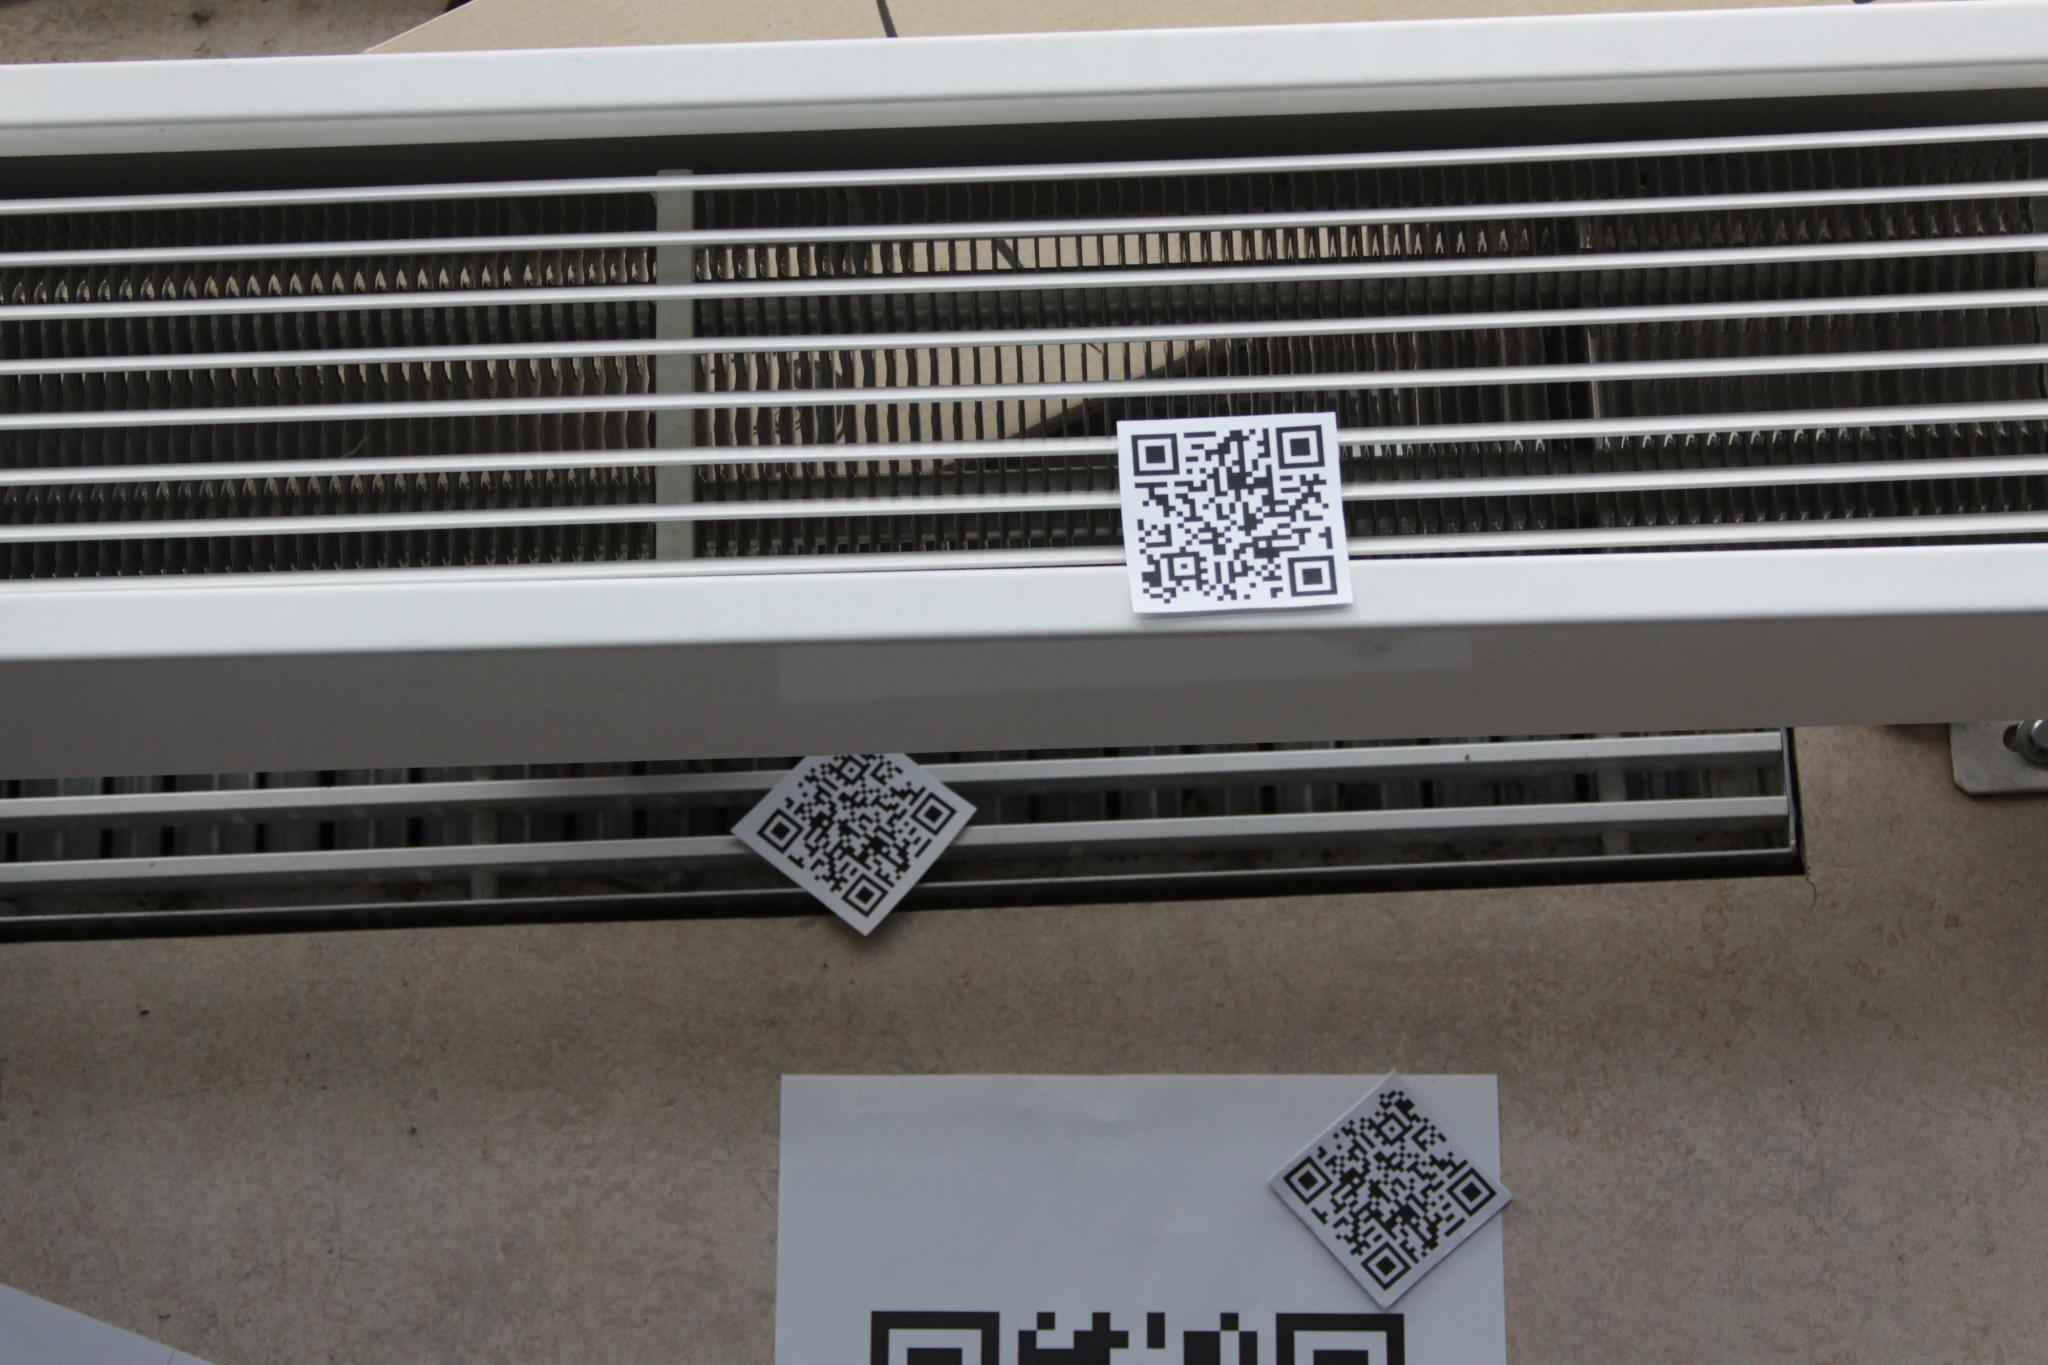Finder pattern: (1270, 1303, 1415, 1365), (860, 1304, 1003, 1365), (1121, 424, 1191, 487), (1284, 542, 1346, 606), (1360, 1237, 1421, 1296), (1443, 1165, 1504, 1223), (1270, 420, 1332, 474), (906, 788, 961, 838), (1284, 1152, 1332, 1208), (754, 806, 804, 855), (837, 868, 889, 916)
